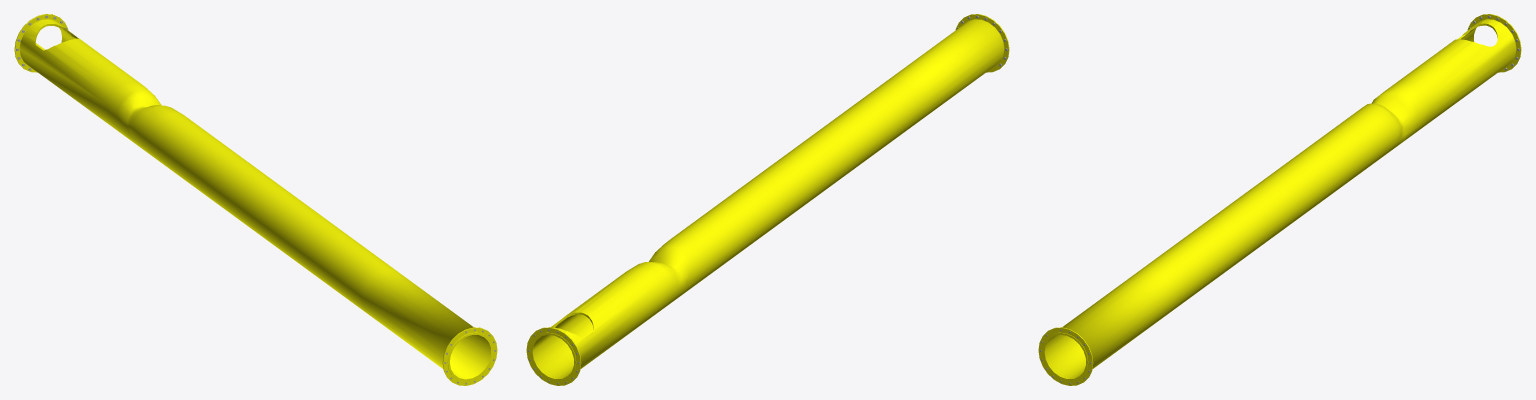
3 renders of one model, left to right at view 1: azimuth 30°, elevation 25°; view 2: azimuth 150°, elevation 25°; view 3: azimuth 330°, elevation 25°, orthographic.
Parts seen in each view (by area): view 1: segment6_dented; view 2: segment6_dented; view 3: segment6_dented.
Boxes of the visible parts, x1,y1,x2,y2 form: segment6_dented: (14,14,497,385); segment6_dented: (526,14,1009,385); segment6_dented: (1038,14,1521,385).
Size of the model in its own units: 0.7315 by 10 by 0.7241.
